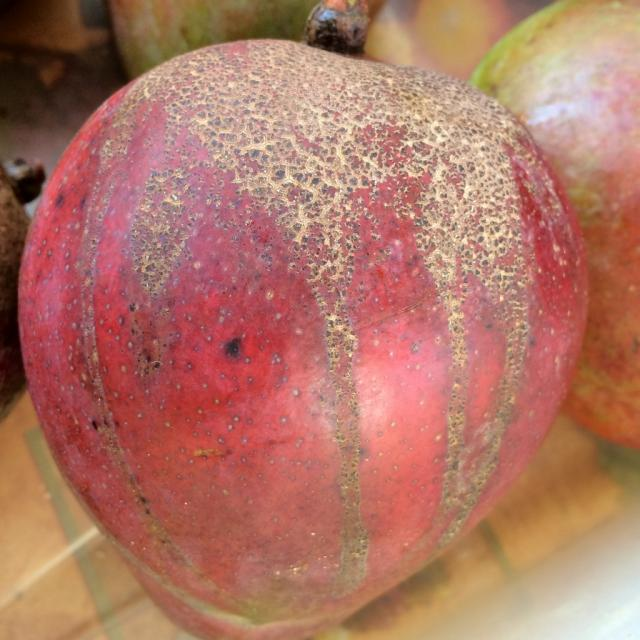Apple pie: (27, 18, 611, 634), (463, 0, 639, 452), (106, 0, 538, 80)
